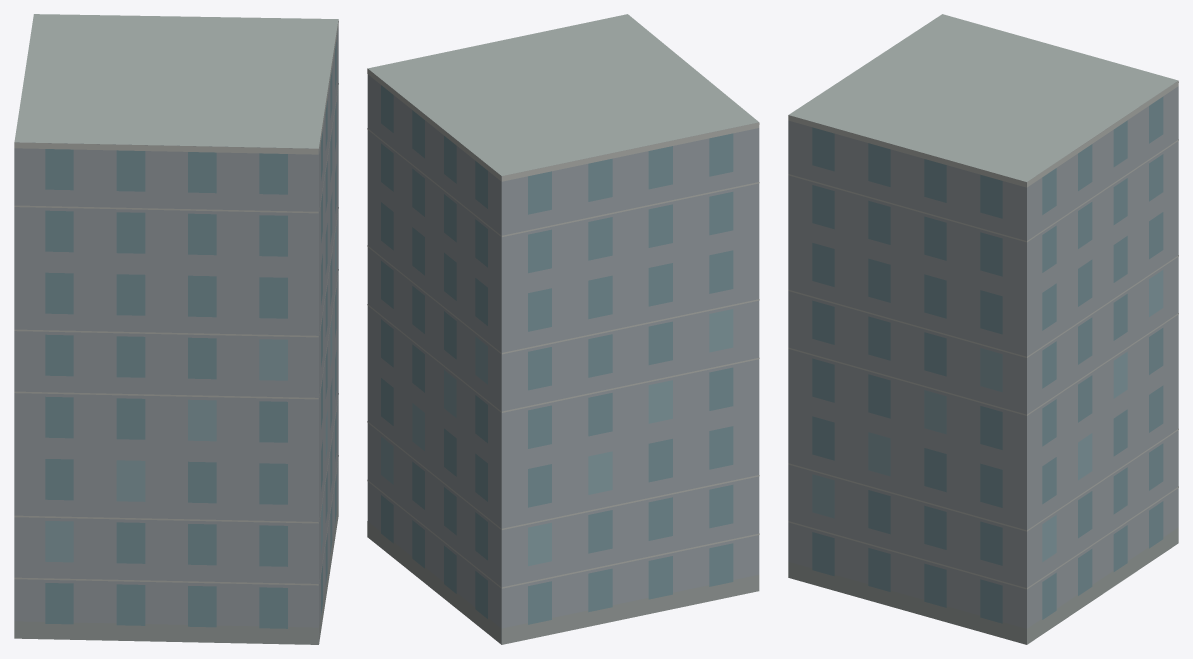
The model's file is survey-upis-32797457.glb.
The picture shows the model from 3 angles, left to right: view 1: azimuth 30°, elevation 25°; view 2: azimuth 150°, elevation 25°; view 3: azimuth 270°, elevation 25°; orthographic projection. The views are drawn at different scales.
Visible parts, largest first — view 1: survey-upis-32797457.tmp; view 2: survey-upis-32797457.tmp; view 3: survey-upis-32797457.tmp.
Boxes of the visible parts, x1,y1,x2,y2 form: survey-upis-32797457.tmp: [14, 14, 338, 644]; survey-upis-32797457.tmp: [367, 14, 759, 644]; survey-upis-32797457.tmp: [788, 14, 1178, 644].
Bounding box in the file's own units: 15.84 × 20.3 × 15.54.
